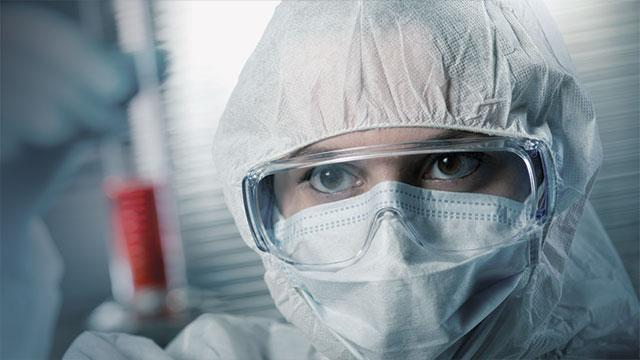Goggles: (238, 135, 560, 268)
